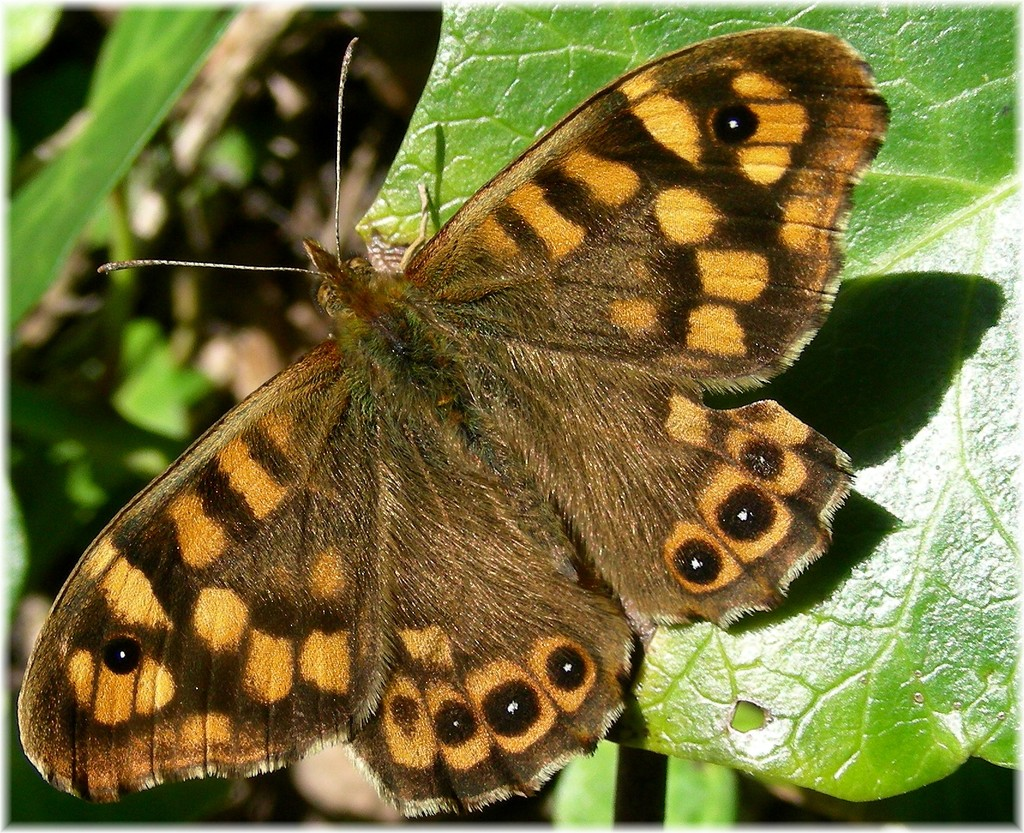Butterfly: (29, 24, 893, 826)
